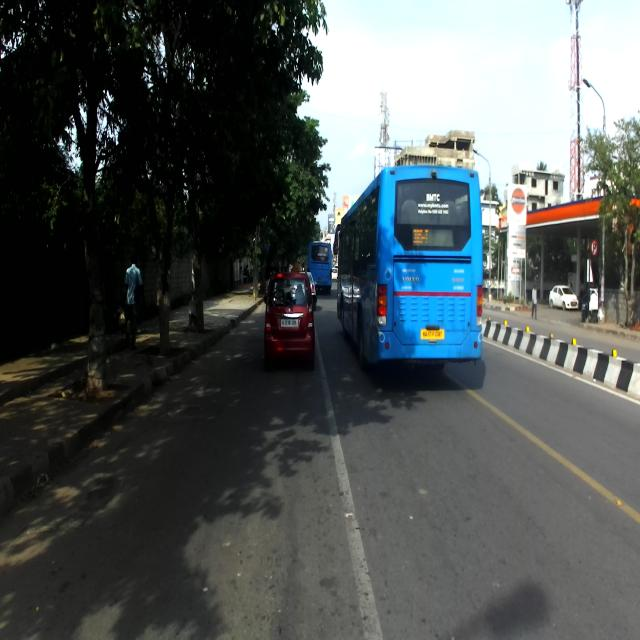bus ahead at: (335, 167, 486, 378)
car ahead at: (263, 273, 317, 368)
tree ahead at: (82, 214, 110, 387), (155, 230, 173, 358), (190, 226, 208, 335)
